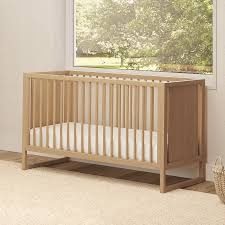crib: (22, 71, 205, 191)
